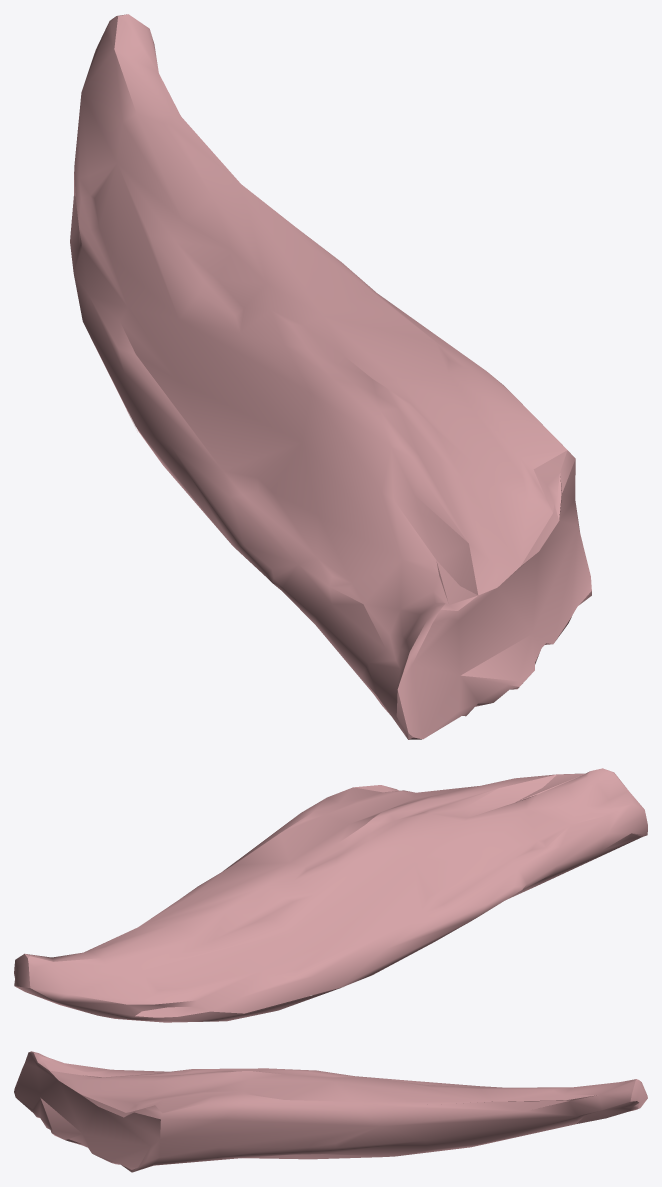
Rendered from fma46305_fj817.glb.
3 renders of one model, top to bottom at view 1: azimuth 30°, elevation 25°; view 2: azimuth 150°, elevation 25°; view 3: azimuth 270°, elevation 25°, orthographic. The views are drawn at different scales.
Visible parts, largest first — view 1: FMA46305_FJ817; view 2: FMA46305_FJ817; view 3: FMA46305_FJ817.
Part boxes in pixels (left/top/right/bottom): FMA46305_FJ817: left=70, top=14, right=591, bottom=739; FMA46305_FJ817: left=14, top=768, right=647, bottom=1022; FMA46305_FJ817: left=14, top=1051, right=647, bottom=1172.
Size of the model in its own units: 0.0115 by 0.00621 by 0.0345.
